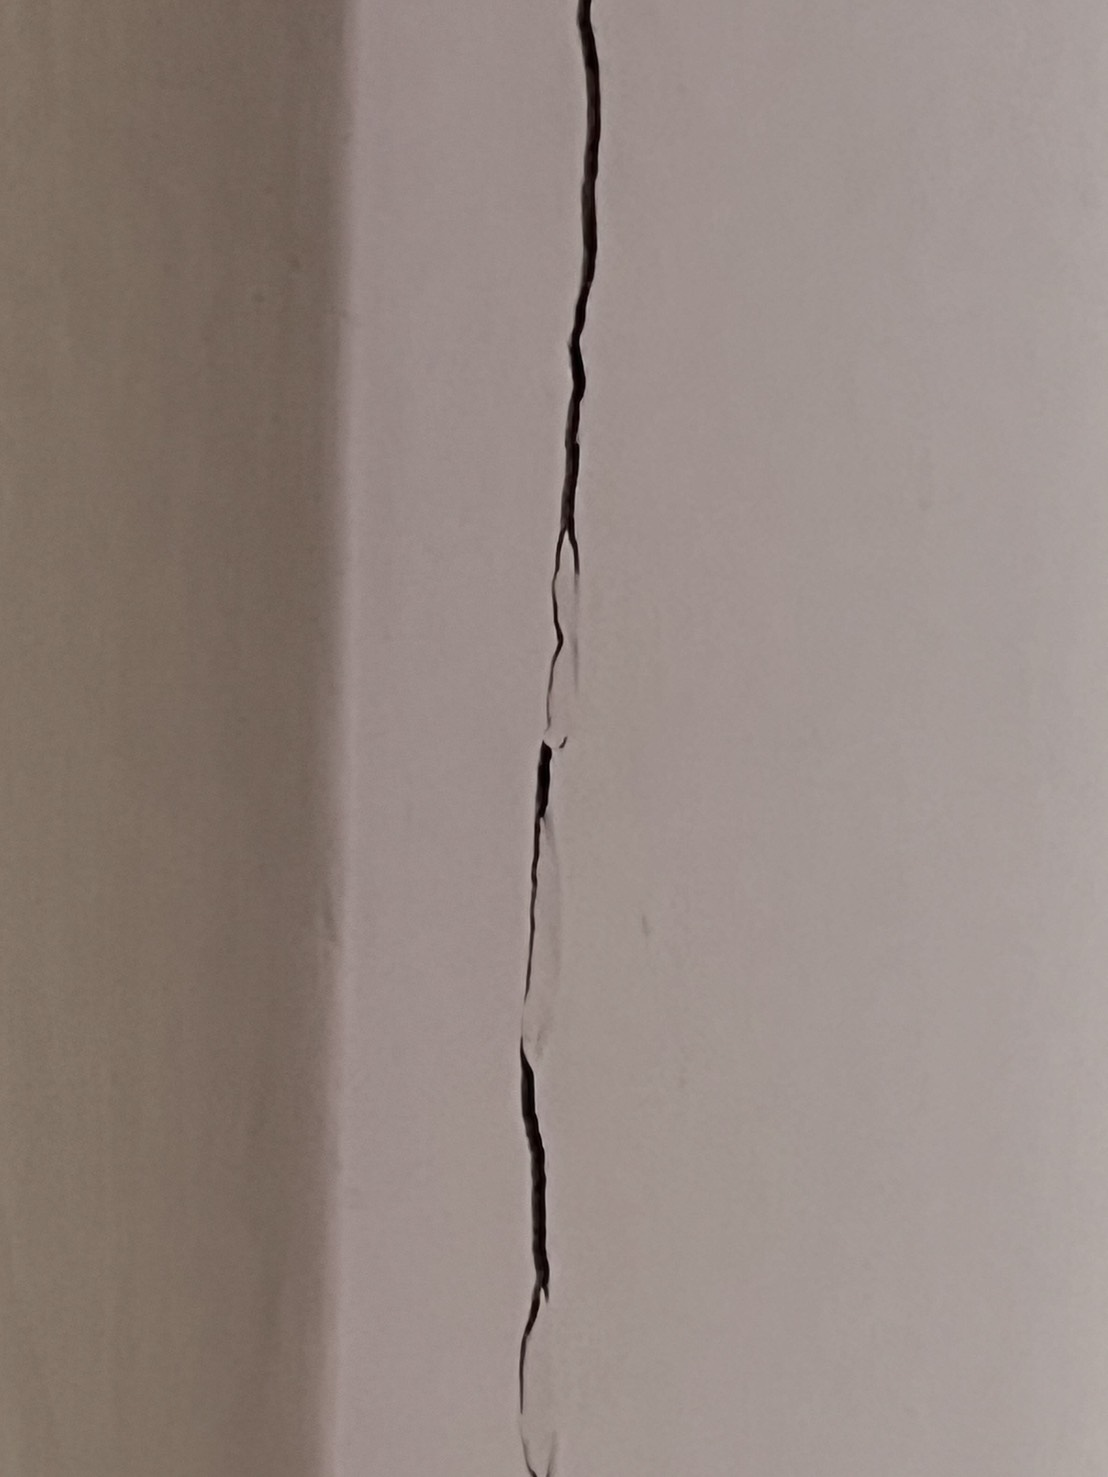High: (402, 3, 691, 1474)
